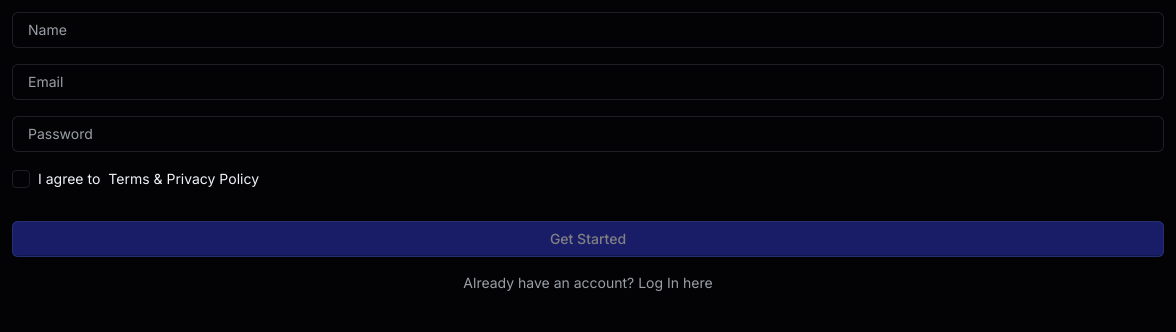
Scenario: RegisterForm › shows email validation error for invalid email after blur
This screenshot has width=1176, height=332.
In the field labelled "Email": (588, 82) [28,64,1148,100], type "bad"
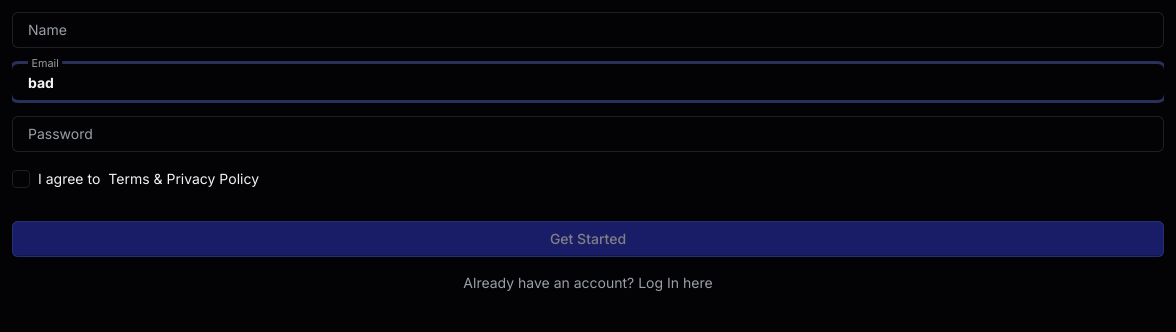
Press Tab
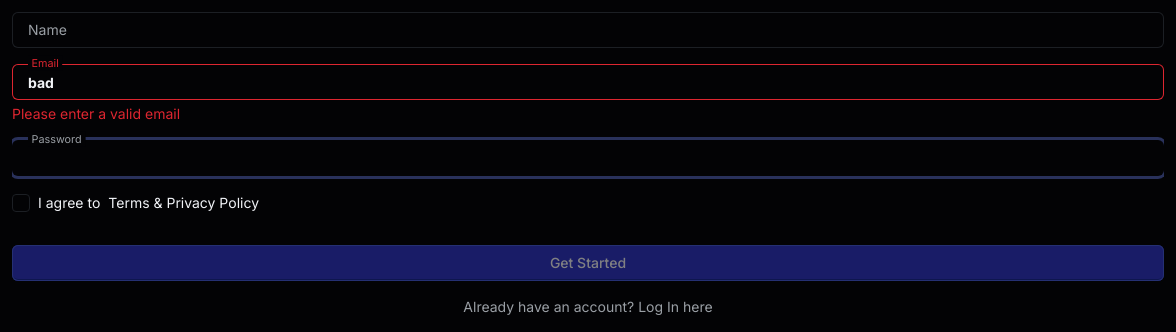
Now the text "Please enter a valid email" is shown, box [12,104,180,124]
